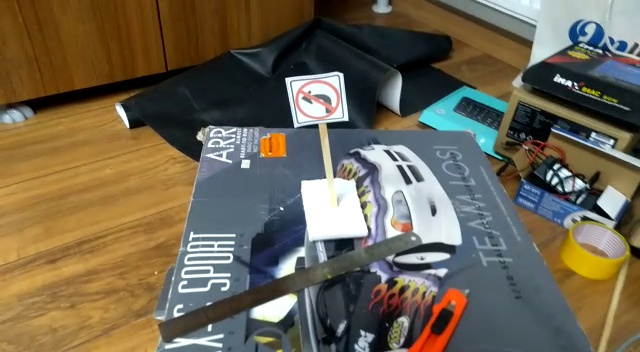sola_donulmez: (293, 74, 340, 120)
